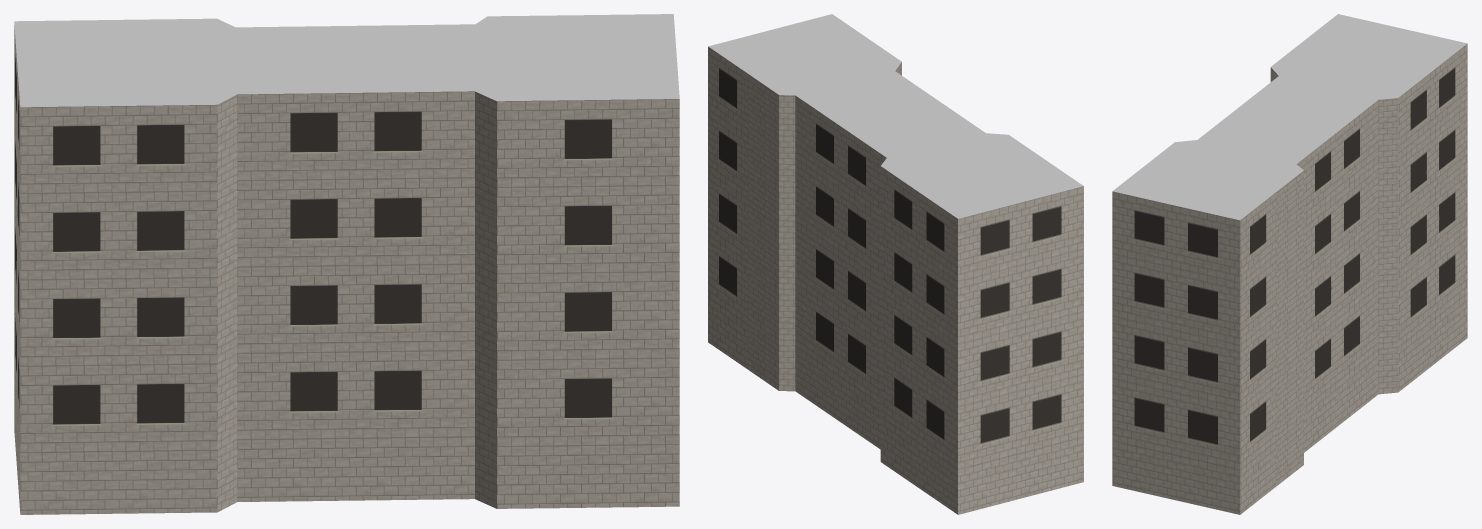
Rendered from building-1-0-62.dae.
3 renders of one model, left to right at view 1: azimuth 30°, elevation 25°; view 2: azimuth 150°, elevation 25°; view 3: azimuth 270°, elevation 25°, orthographic. The views are drawn at different scales.
Visible parts, largest first — view 1: geopipeinodeHIlsvIyO (×3); view 2: geopipeinodeHIlsvIyO (×3); view 3: geopipeinodeHIlsvIyO (×3).
Boxes of the visible parts, x1,y1,x2,y2 form: geopipeinodeHIlsvIyO (×3): (14,14,679,514); geopipeinodeHIlsvIyO (×3): (708,14,1083,514); geopipeinodeHIlsvIyO (×3): (1112,14,1467,514).
Bounding box in the file's own units: 26.16 × 19.03 × 17.4.
